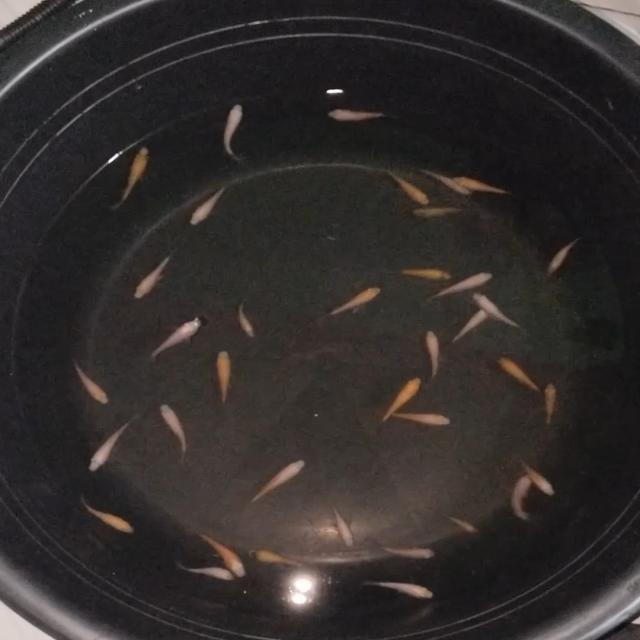nila: (233, 456, 310, 511), (82, 410, 140, 476), (108, 142, 156, 215), (143, 314, 204, 368), (311, 284, 386, 324), (76, 495, 138, 538), (470, 289, 532, 332), (130, 250, 177, 306), (448, 299, 499, 348), (361, 572, 438, 604), (377, 374, 424, 426), (200, 530, 250, 578), (68, 354, 114, 406), (494, 352, 545, 396), (188, 180, 234, 228), (156, 400, 190, 464), (219, 100, 252, 161), (171, 562, 246, 588), (428, 270, 497, 298), (507, 468, 540, 526), (383, 168, 433, 206), (245, 544, 311, 572), (541, 234, 580, 281), (416, 168, 481, 196), (516, 454, 556, 497), (380, 406, 456, 428), (456, 174, 524, 198), (213, 346, 236, 416), (440, 506, 488, 538), (326, 102, 394, 124), (421, 326, 446, 383), (329, 496, 354, 552), (410, 201, 472, 222), (393, 262, 455, 281), (375, 542, 438, 560), (234, 296, 258, 342), (542, 380, 561, 430)
